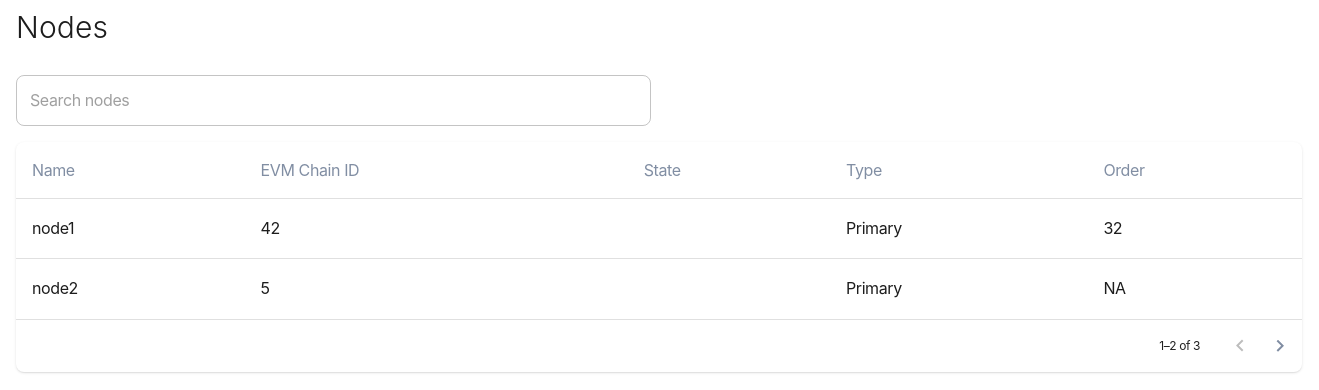
NodesScreen › can page through the list of nodes
The width and height of the screenshot is (1319, 390).
Expected: the text "node1" is shown, top-left (32, 217), bottom-right (74, 240)
Expected: the text "node2" is shown, top-left (32, 277), bottom-right (78, 301)
Step 1. Click the button named "next-page" → (1280, 346), box top-left (1260, 326), bottom-right (1300, 366)
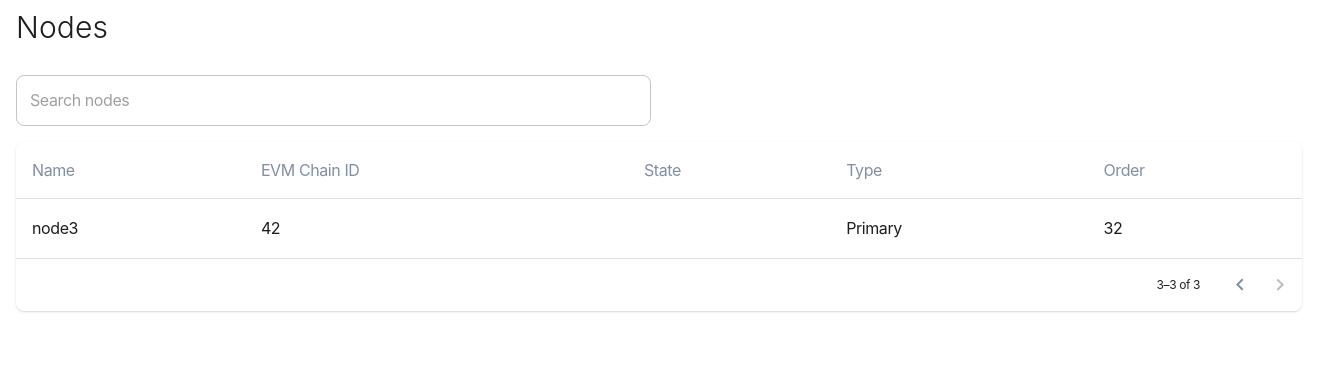
Result: the text "node3" is shown at top-left (32, 217), bottom-right (78, 240)
Result: the text "3–3 of 3" is shown at top-left (1157, 275), bottom-right (1200, 296)
Result: the button named "next-page" is disabled at top-left (1260, 265), bottom-right (1300, 305)
Step 2. Click the button named "prev-page" → (1240, 285), box top-left (1220, 265), bottom-right (1260, 305)
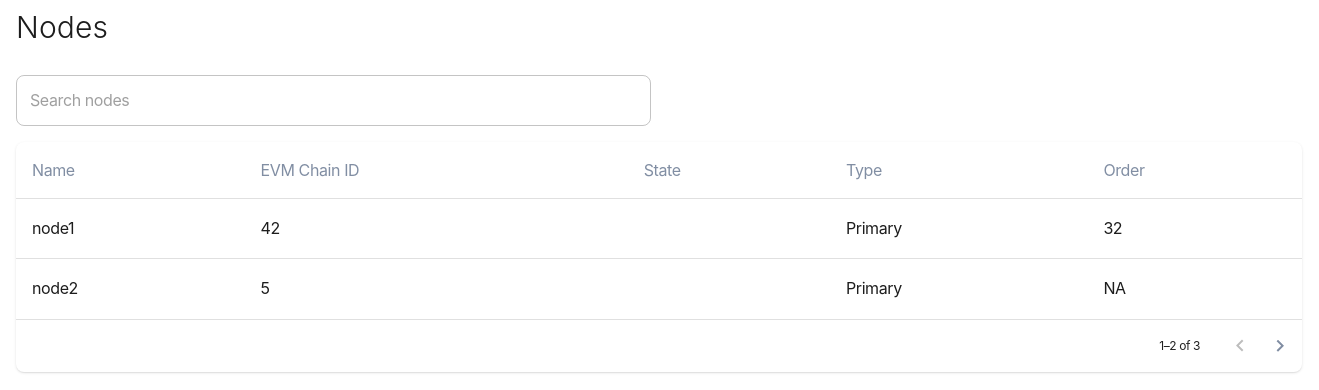
Result: the text "node1" is shown at top-left (32, 217), bottom-right (74, 240)
Result: the text "node2" is shown at top-left (32, 277), bottom-right (78, 301)
Result: the text "1–2 of 3" is shown at top-left (1159, 336), bottom-right (1200, 356)
